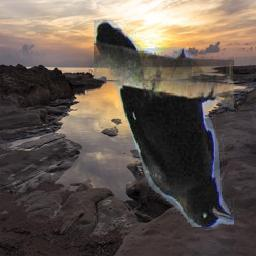Crow: (94, 21, 234, 228)
